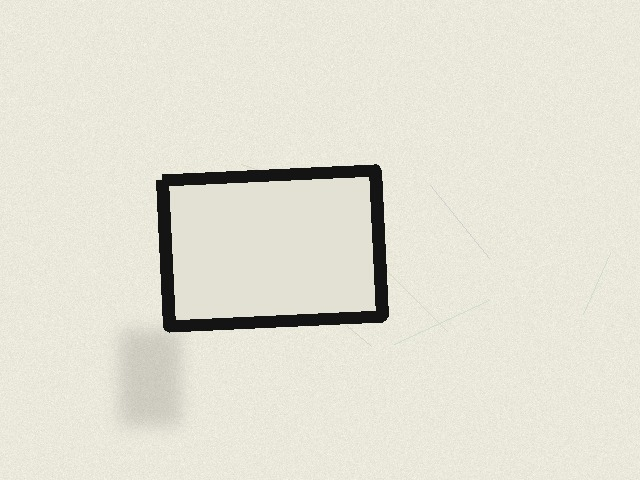parking_area: (162, 170, 382, 326)
